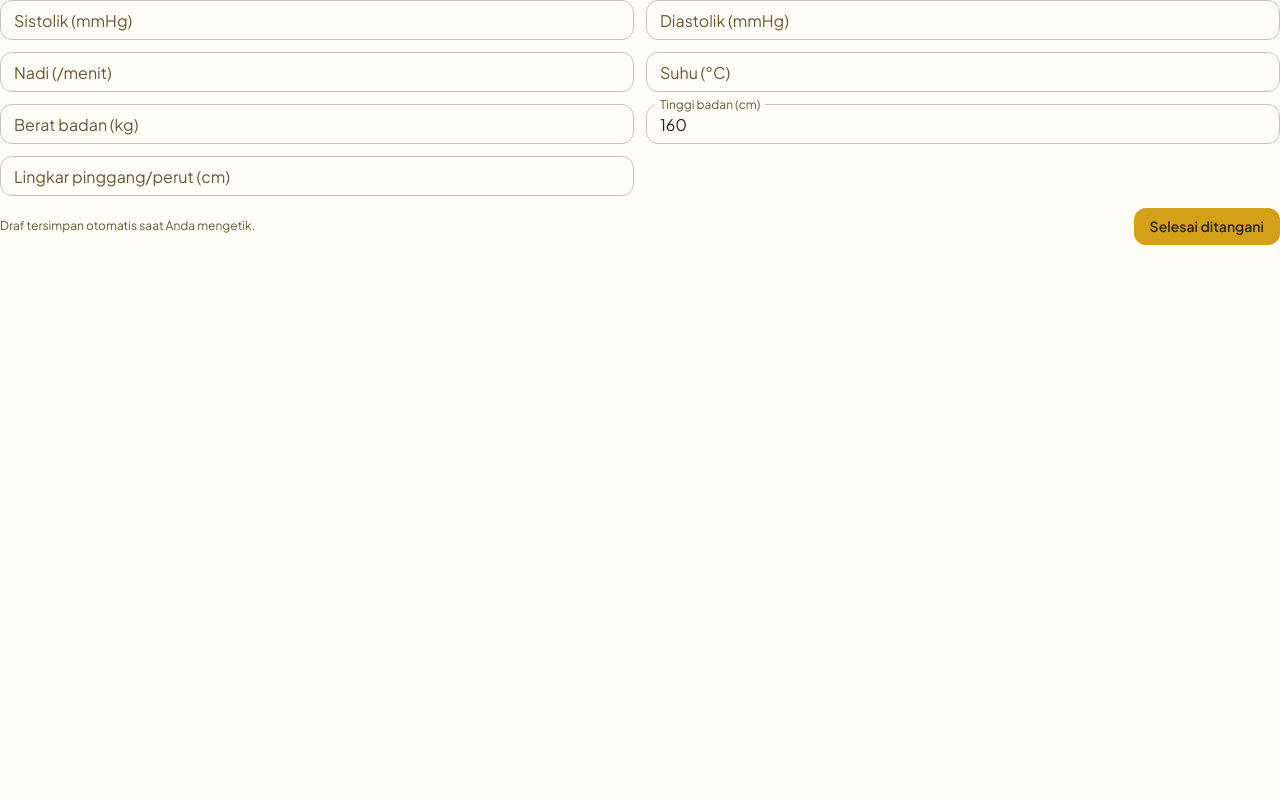
Test: NurseVitalsCard (spec vital perawat VP1–VP3, VP6) › ketikan terakhir yang belum tersimpan otomatis ikut dikirim saat Selesai ditangani (temuan review)
Type "72,5" into the field labelled "Berat badan (kg)".
click(317, 124); type("72,5")  # box [0, 104, 634, 144]
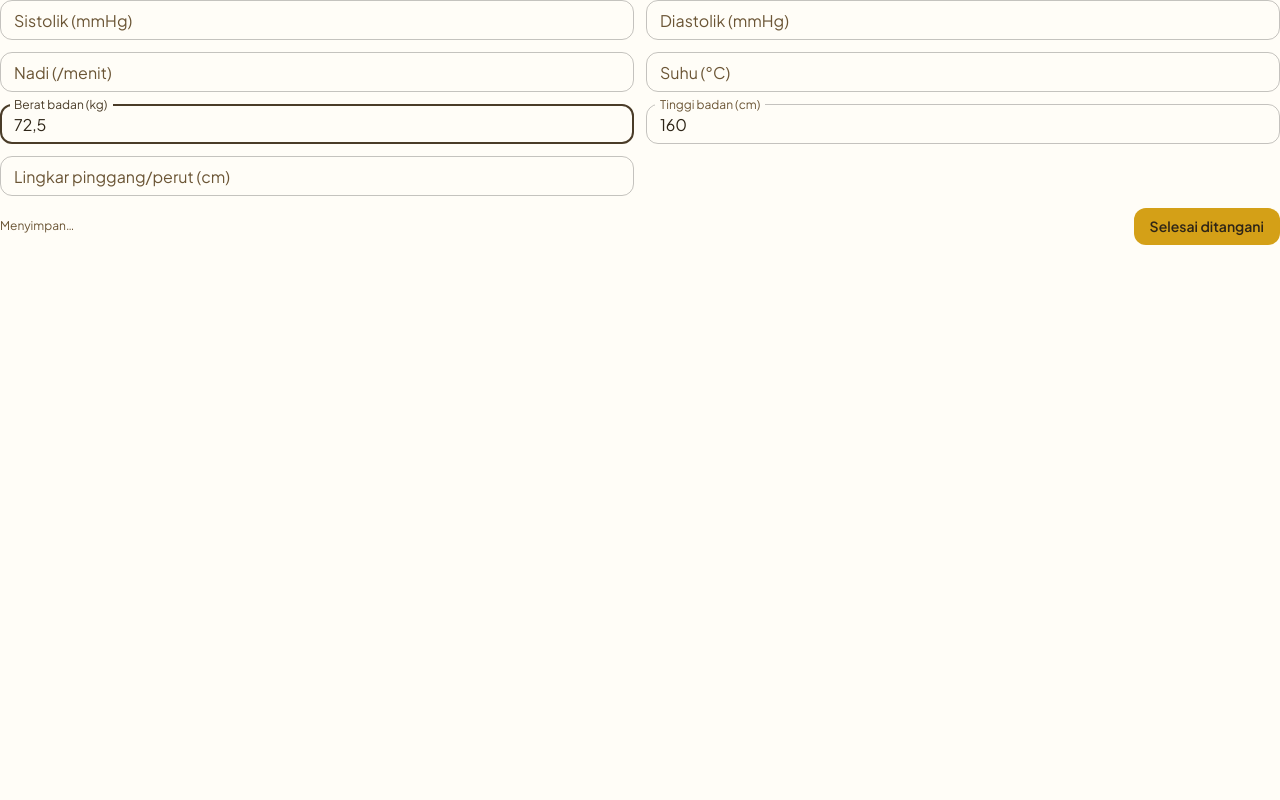
Click the button "Selesai ditangani".
click(1207, 226)  # box [1134, 208, 1279, 244]
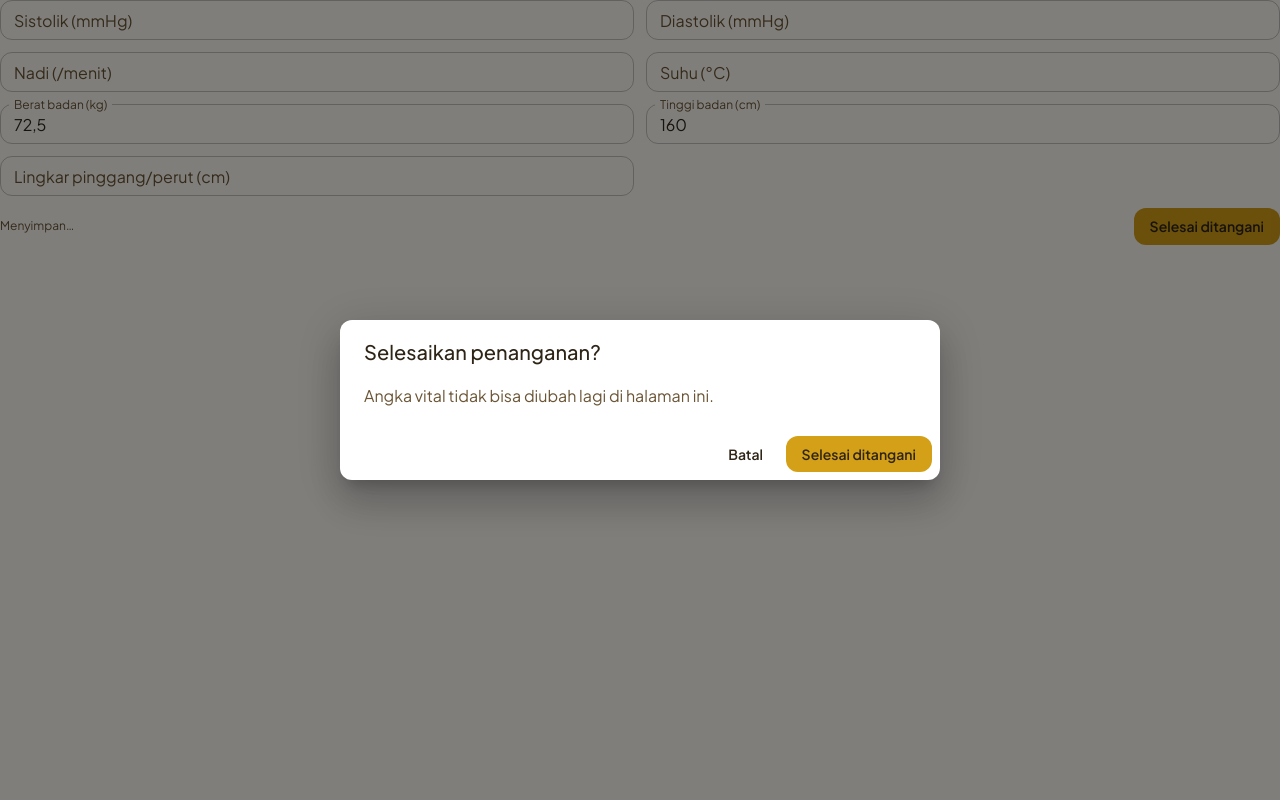
Click the button "Selesai ditangani".
click(859, 454)  # box [786, 436, 932, 472]
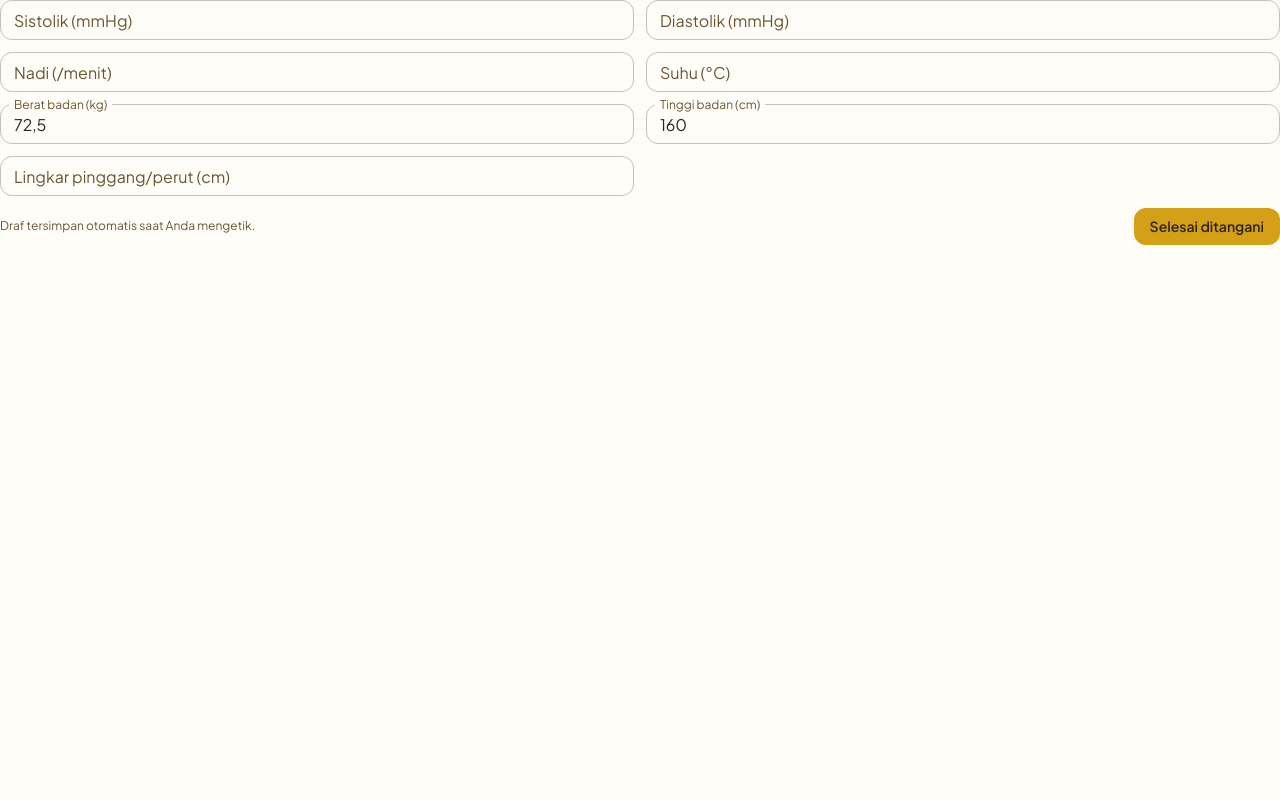
Now the text "Draf tersimpan otomatis saat Anda mengetik." is shown, box [0, 216, 255, 236]
